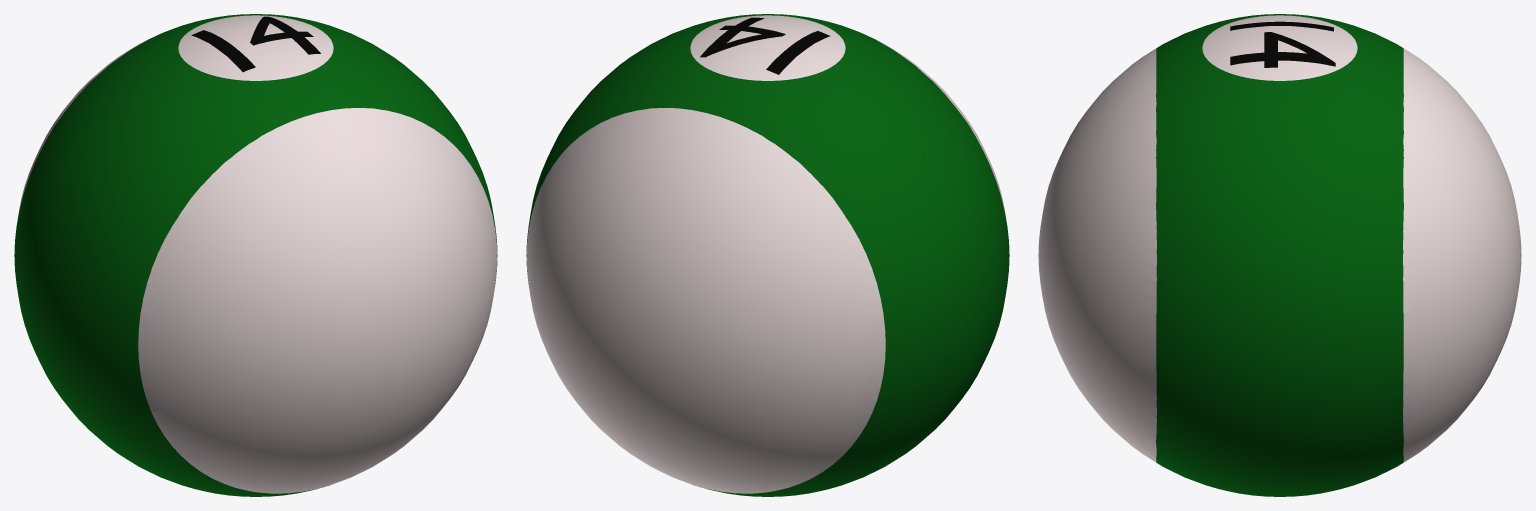
The model's file is fourteenBall.glb.
3 renders of one model, left to right at view 1: azimuth 30°, elevation 25°; view 2: azimuth 150°, elevation 25°; view 3: azimuth 270°, elevation 25°, orthographic.
Parts seen in each view (by area): view 1: Sphere; view 2: Sphere; view 3: Sphere.
Boxes of the visible parts, left/top/right/bottom form: Sphere: left=14, top=14, right=497, bottom=496; Sphere: left=526, top=14, right=1009, bottom=496; Sphere: left=1038, top=14, right=1521, bottom=496.
Size of the model in its own units: 0.127 by 0.127 by 0.127.
